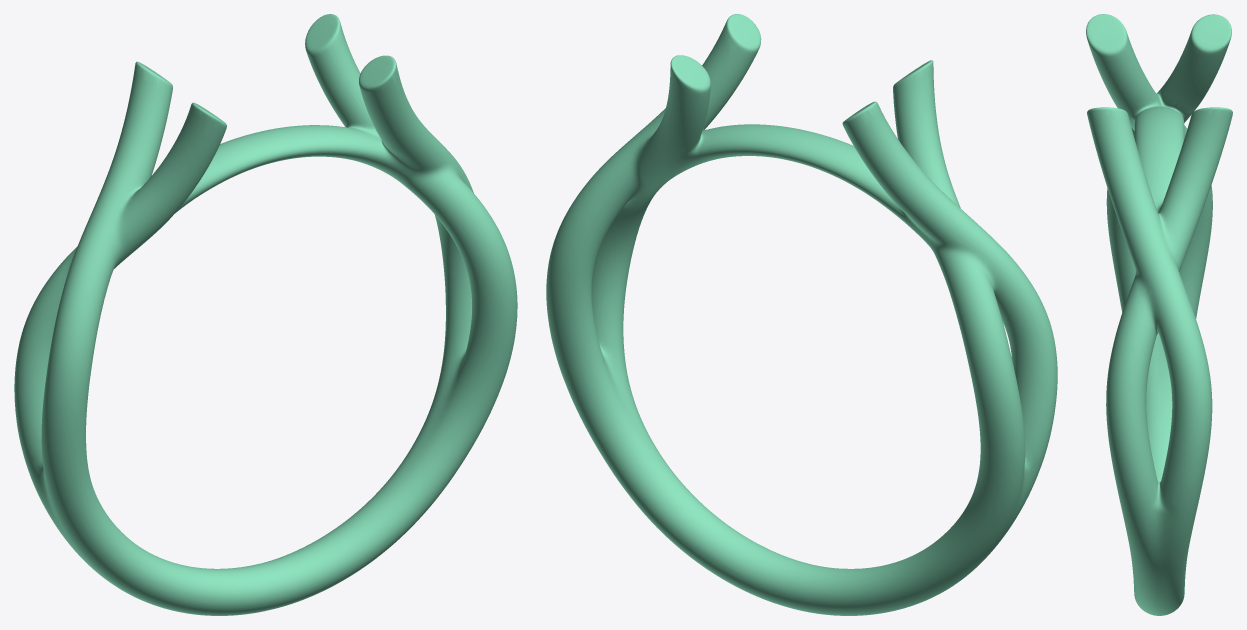
3 views of the same model, side by side, from view 1: azimuth 30°, elevation 25°; view 2: azimuth 150°, elevation 25°; view 3: azimuth 270°, elevation 25° (orthographic). The views are drawn at different scales.
Parts seen in each view (by area): view 1: Metal02; view 2: Metal02; view 3: Metal02.
Boxes of the visible parts, bbox=[...] form: Metal02: bbox=[14, 14, 517, 615]; Metal02: bbox=[546, 14, 1057, 615]; Metal02: bbox=[1086, 14, 1232, 615].
Size of the model in its own units: 21.09 by 23.29 by 5.84.
